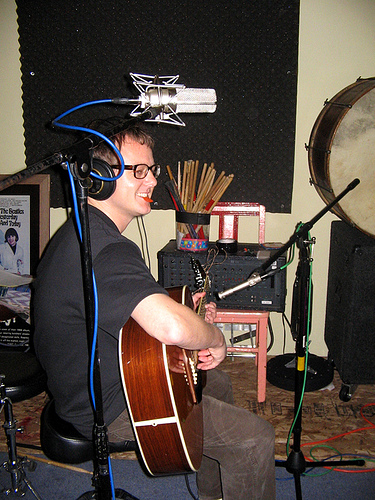guitar: (117, 255, 218, 482)
